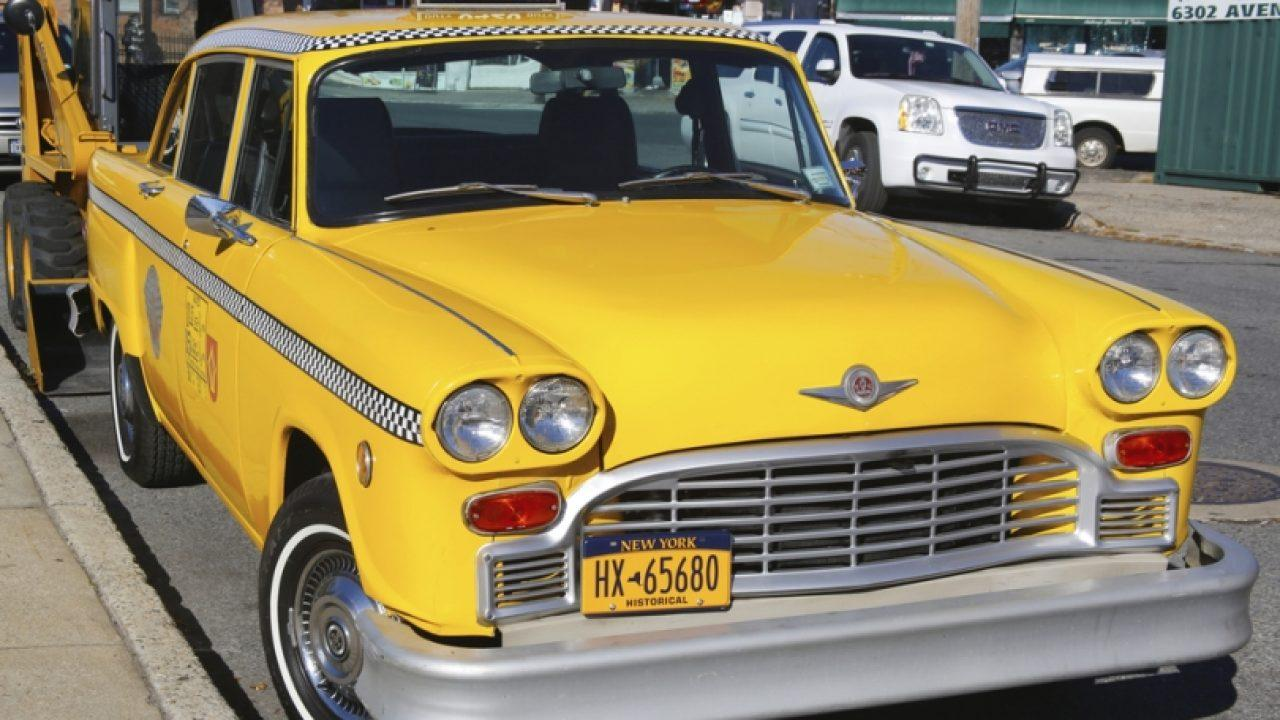taxi: (71, 30, 1280, 720)
